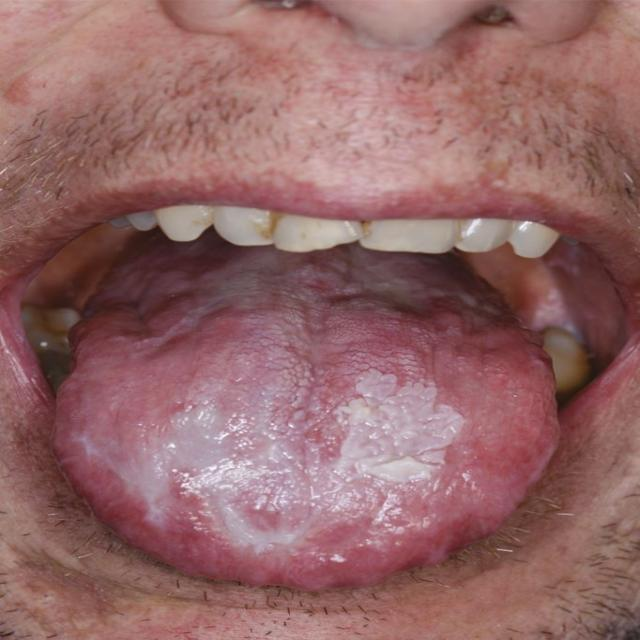leukoplakia-like-detection: (51, 255, 558, 590)
processing_area: (50, 250, 553, 588)
